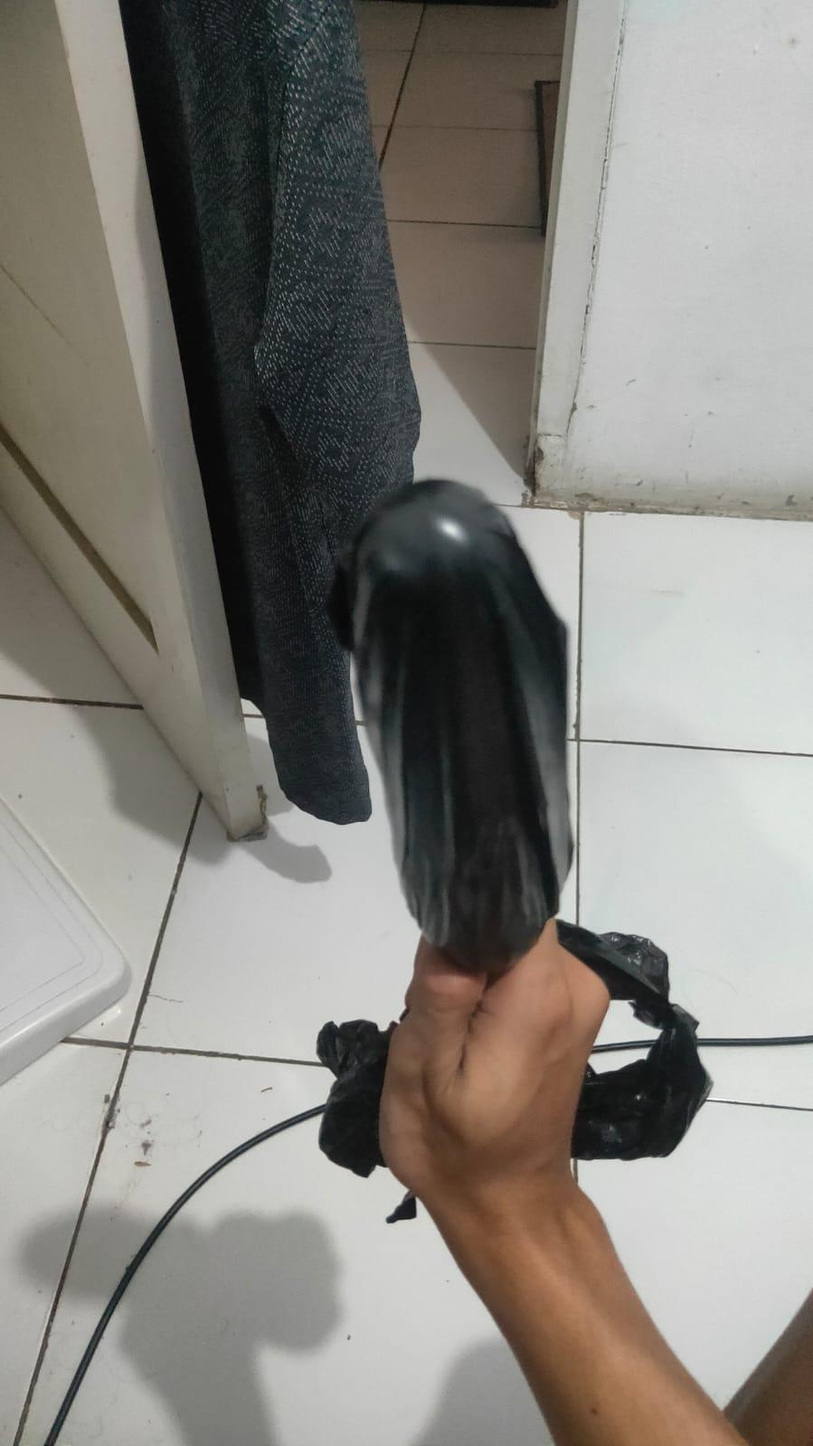undamaged: (314, 471, 593, 978)
